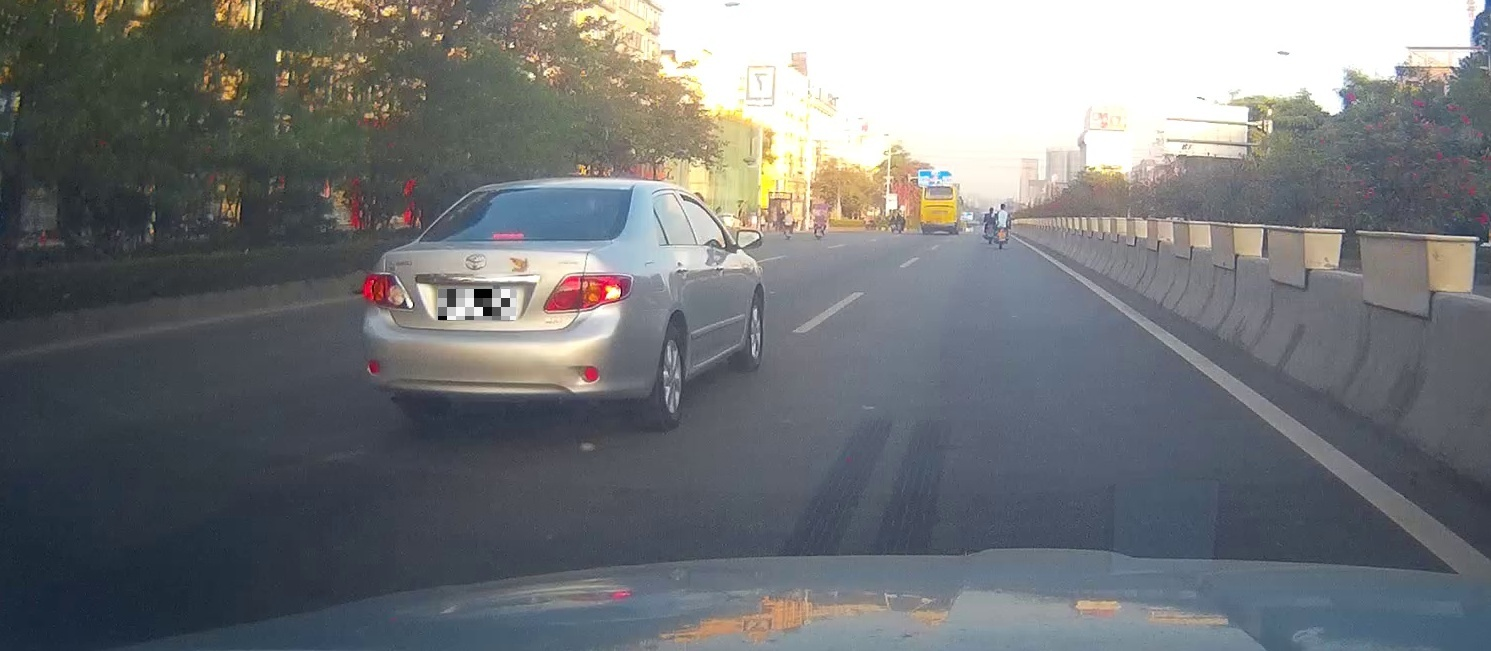L_light: (361, 271, 414, 311)
R_light: (541, 272, 634, 314)
T_light: (493, 233, 524, 240)
day-right: (360, 176, 636, 431)
plate_1: (438, 289, 516, 320)
